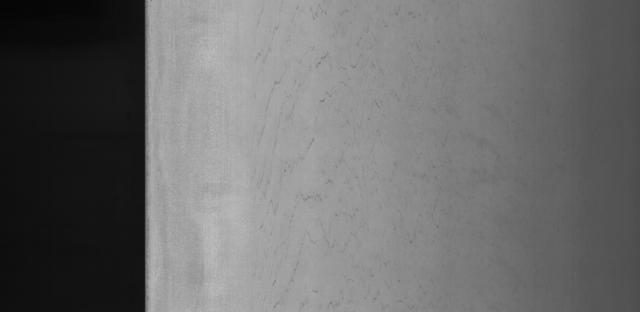silk_spot: (246, 10, 411, 243)
